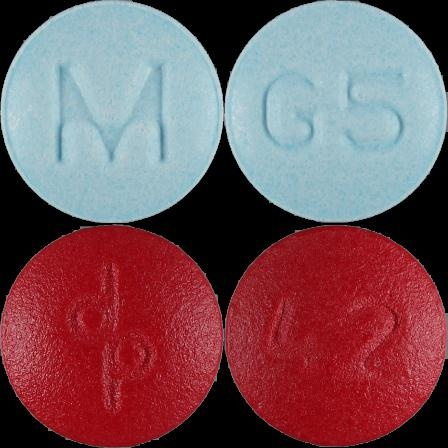54868-4876: (0, 0, 224, 224)
